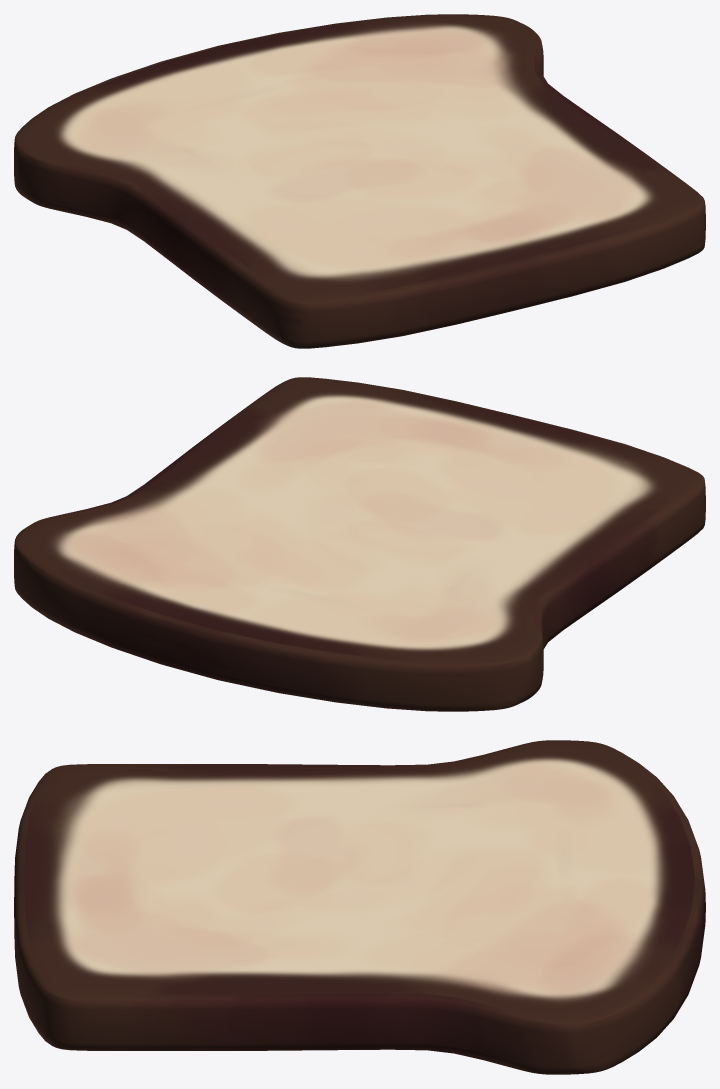
File: bread.glb
3 renders of one model, top to bottom at view 1: azimuth 30°, elevation 25°; view 2: azimuth 150°, elevation 25°; view 3: azimuth 270°, elevation 25°, orthographic. The views are drawn at different scales.
Visible parts, largest first — view 1: bread-col; view 2: bread-col; view 3: bread-col.
Part boxes in pixels (x1,y1,x2,y2): bread-col: (14, 14, 705, 348); bread-col: (14, 377, 705, 711); bread-col: (14, 740, 705, 1074).
Size of the model in its own units: 21.58 by 2 by 22.08.
Materials: 1 (1 with a texture image).
